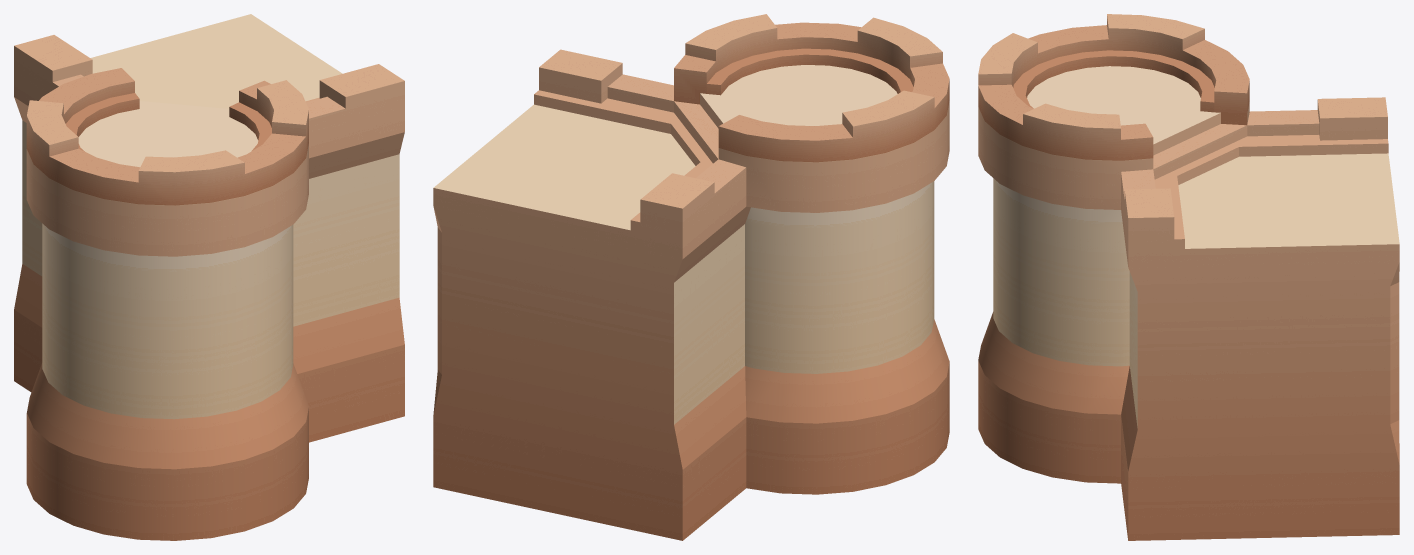
File: wall-corner-half-tower.001_lev3.glb
3 renders of one model, left to right at view 1: azimuth 30°, elevation 25°; view 2: azimuth 150°, elevation 25°; view 3: azimuth 270°, elevation 25°, orthographic. The views are drawn at different scales.
Parts seen in each view (by area): view 1: wall-corner-half-tower.001_lev3; view 2: wall-corner-half-tower.001_lev3; view 3: wall-corner-half-tower.001_lev3.
Boxes of the visible parts, x1,y1,x2,y2 form: wall-corner-half-tower.001_lev3: (14,14,404,540); wall-corner-half-tower.001_lev3: (433,14,949,540); wall-corner-half-tower.001_lev3: (978,14,1399,540).
Bounding box in the file's own units: 8.9 × 8.55 × 9.21.
1 material, 1 textured.
